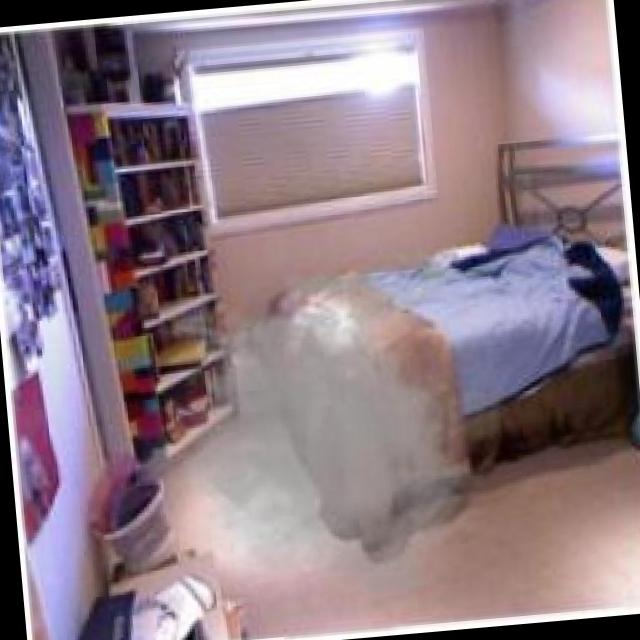Smoke: (106, 231, 542, 625)
